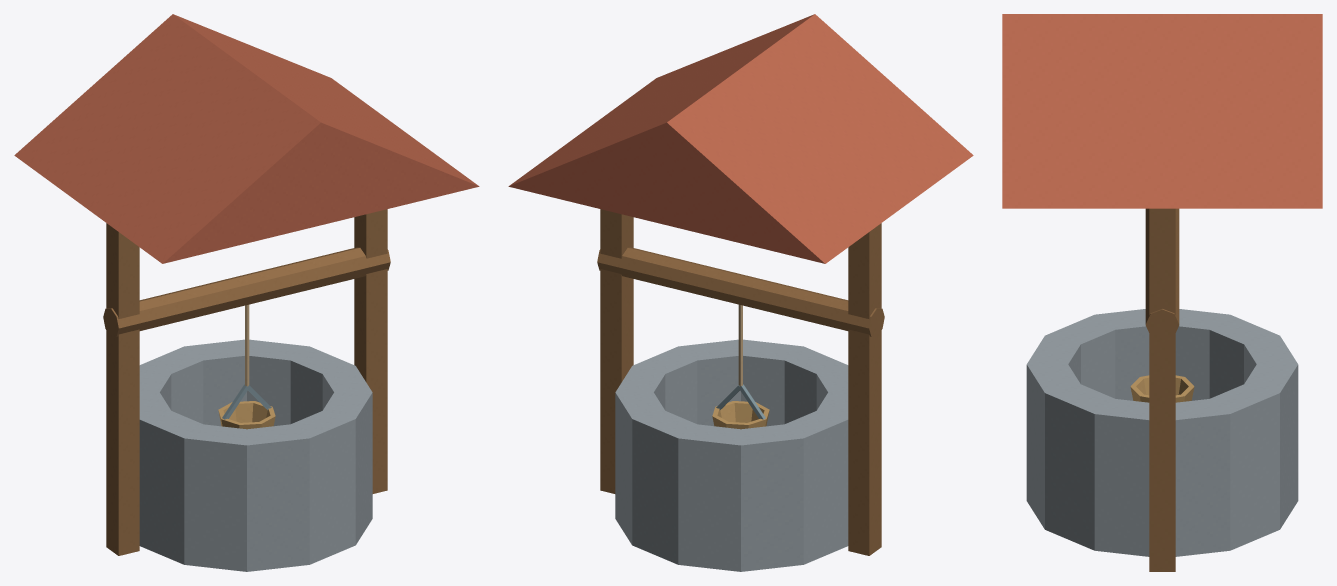
Rendered from village-well.glb.
3 renders of one model, left to right at view 1: azimuth 30°, elevation 25°; view 2: azimuth 150°, elevation 25°; view 3: azimuth 270°, elevation 25°, orthographic. The views are drawn at different scales.
Parts seen in each view (by area): view 1: Well pitched roof 004, Open well stone ring 001, Well roof post 002, Windlass 005, Well roof post 003, Bucket 007; view 2: Well pitched roof 004, Open well stone ring 001, Well roof post 002, Windlass 005, Well roof post 003, Bucket 007; view 3: Well pitched roof 004, Open well stone ring 001, Well roof post 003, Windlass 005, Bucket 007.
Boxes of the visible parts, bbox=[...] form: Well pitched roof 004: bbox=[14, 14, 479, 263]; Open well stone ring 001: bbox=[139, 339, 372, 571]; Well roof post 002: bbox=[106, 223, 139, 555]; Windlass 005: bbox=[103, 247, 390, 336]; Well roof post 003: bbox=[354, 209, 387, 493]; Bucket 007: bbox=[218, 401, 275, 429]; Well pitched roof 004: bbox=[508, 14, 973, 263]; Open well stone ring 001: bbox=[615, 339, 848, 571]; Well roof post 002: bbox=[848, 223, 881, 555]; Windlass 005: bbox=[597, 247, 884, 336]; Well roof post 003: bbox=[600, 209, 633, 493]; Bucket 007: bbox=[712, 401, 769, 429]; Well pitched roof 004: bbox=[1002, 14, 1322, 208]; Open well stone ring 001: bbox=[1026, 309, 1298, 556]; Well roof post 003: bbox=[1149, 208, 1175, 571]; Windlass 005: bbox=[1145, 208, 1179, 340]; Bucket 007: bbox=[1130, 375, 1194, 402].
Bounding box in the file's own units: 2.1 × 2.85 × 1.7.
6 materials, 6 textured.
